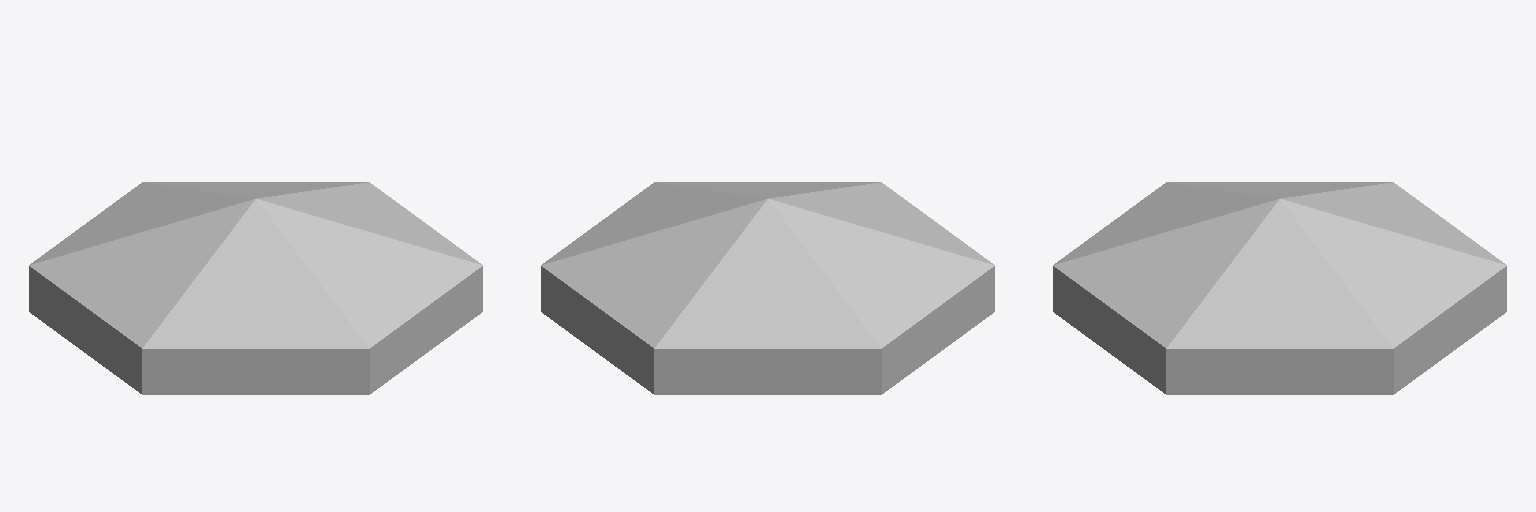
Rendered from ceiling2.obj.
3 views of the same model, side by side, from view 1: azimuth 30°, elevation 25°; view 2: azimuth 150°, elevation 25°; view 3: azimuth 270°, elevation 25° (orthographic).
Visible parts, largest first — view 1: pCylinder23; view 2: pCylinder23; view 3: pCylinder23.
Part boxes in pixels (left/top/right/bottom): pCylinder23: left=29, top=182, right=482, bottom=394; pCylinder23: left=541, top=182, right=994, bottom=394; pCylinder23: left=1053, top=182, right=1506, bottom=394.
Size of the model in its own units: 63.66 by 20.47 by 73.5.